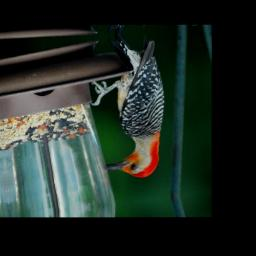Woodpecker: (85, 30, 176, 183)
